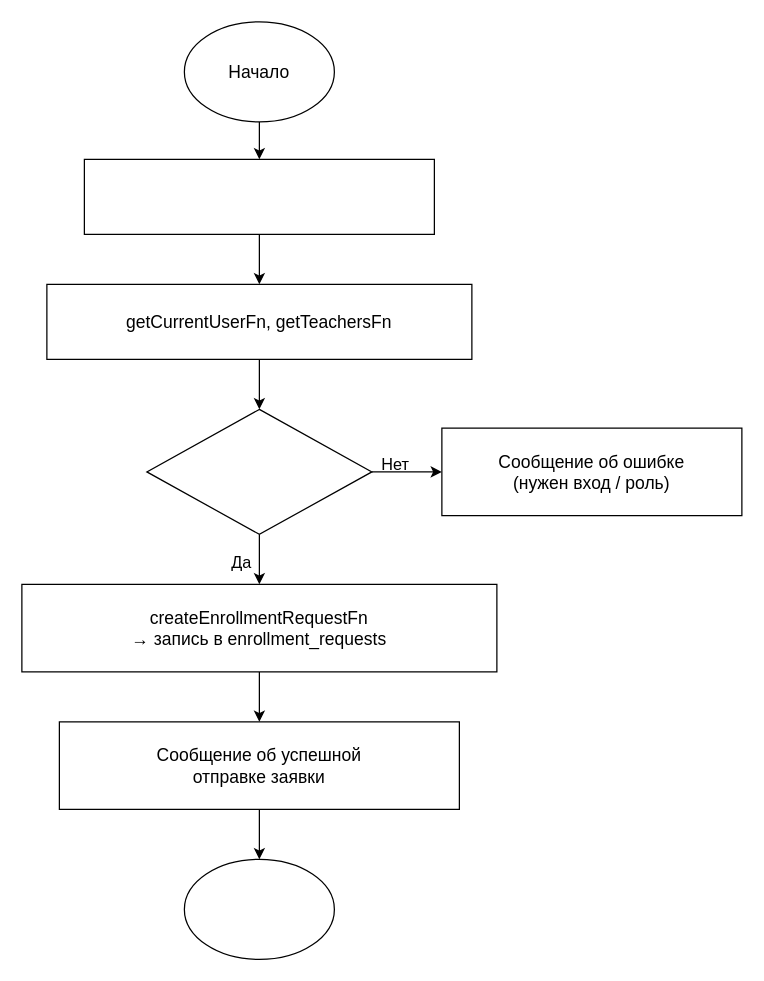
This 764x981 diagram has some shape labels left out. Each missing label, with the centre of its shape:
"Конец" goes at (258,908).
"Открытие EnrollDialog" goes at (258,196).
"Слушатель авторизован?" goes at (259,471).
